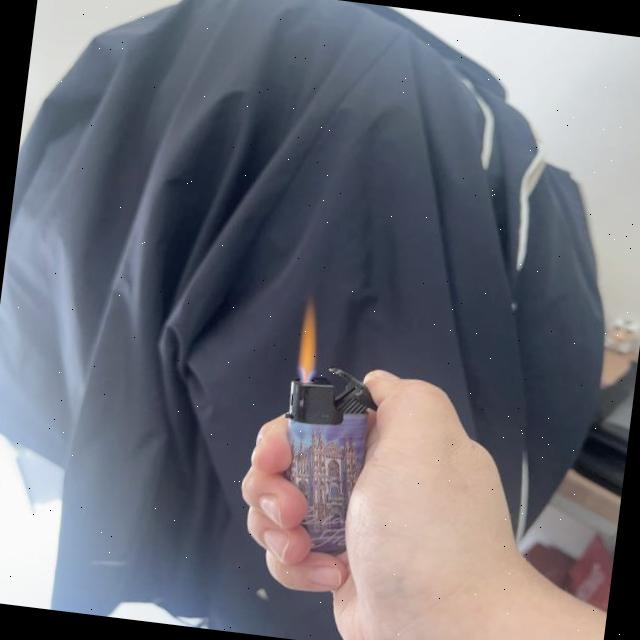fire: (292, 296, 326, 384)
